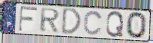C: (83, 10, 104, 37)
D: (60, 7, 83, 36)
F: (18, 6, 39, 32)
O: (126, 11, 148, 39)
Q: (105, 11, 125, 39)
R: (40, 7, 61, 33)
